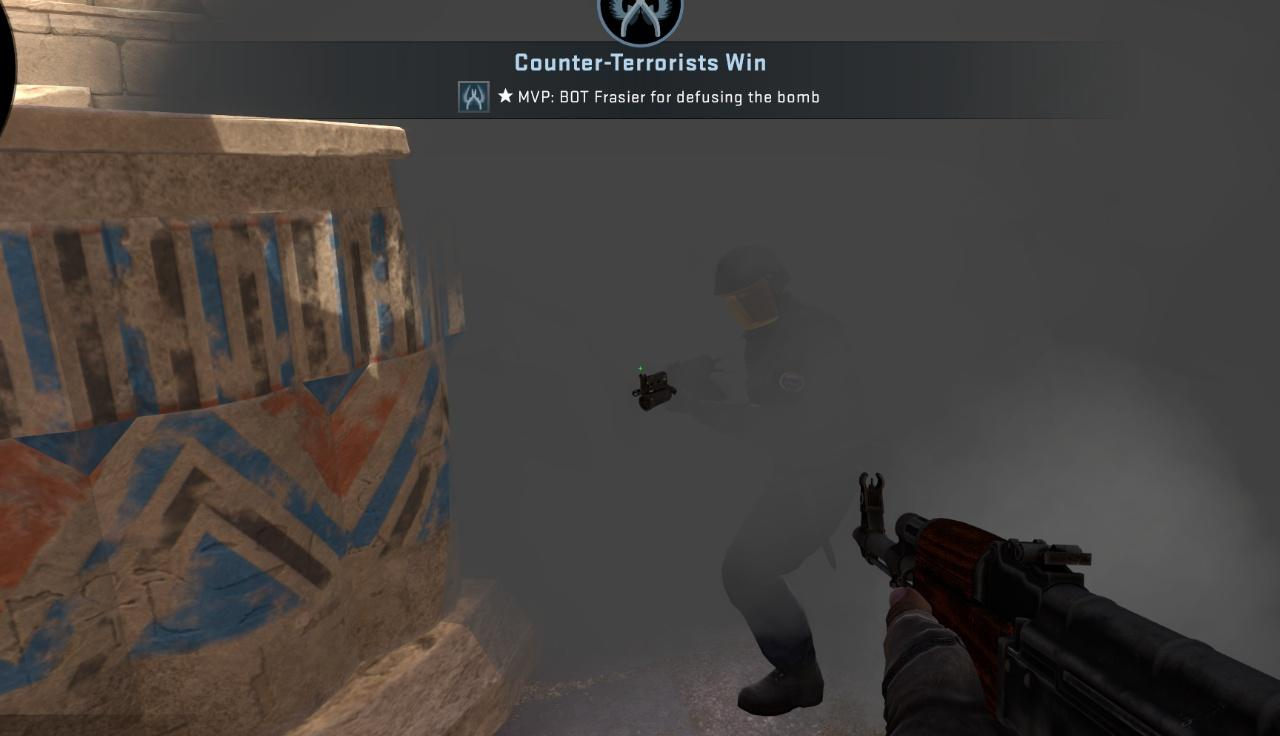ct: (701, 246, 853, 721)
cthead: (713, 250, 793, 329)
rifle: (853, 472, 1280, 736)
